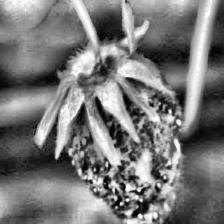Gray Mold: (63, 53, 183, 224)
